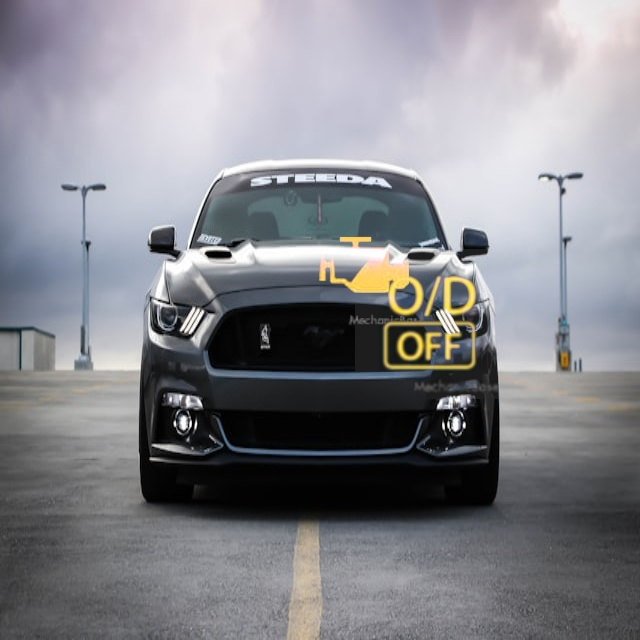symbol: (355, 249, 505, 399), (298, 200, 429, 331)
